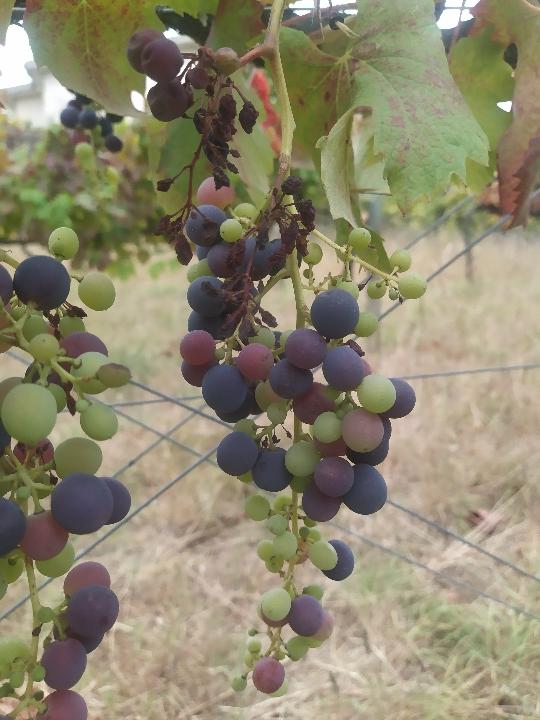grape: (179, 172, 426, 698), (2, 226, 131, 718), (125, 28, 261, 268)
